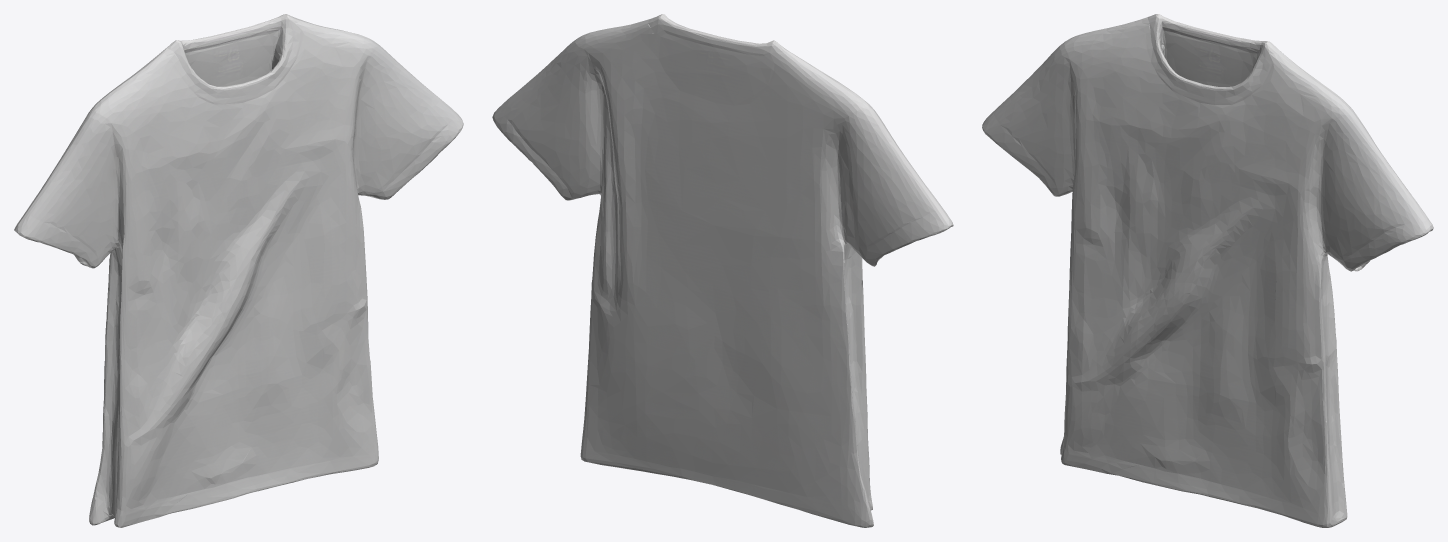
The model's file is zara_grament2.glb.
3 views of the same model, side by side, from view 1: azimuth 30°, elevation 25°; view 2: azimuth 150°, elevation 25°; view 3: azimuth 330°, elevation 25° (orthographic). The views are drawn at different scales.
Visible parts, largest first — view 1: world; view 2: world; view 3: world.
Part boxes in pixels (left/top/right/bottom): world: left=14, top=14, right=463, bottom=527; world: left=492, top=14, right=953, bottom=527; world: left=982, top=14, right=1433, bottom=527.
Size of the model in its own units: 1 by 0.9825 by 0.1077.
1 material, 1 textured.
